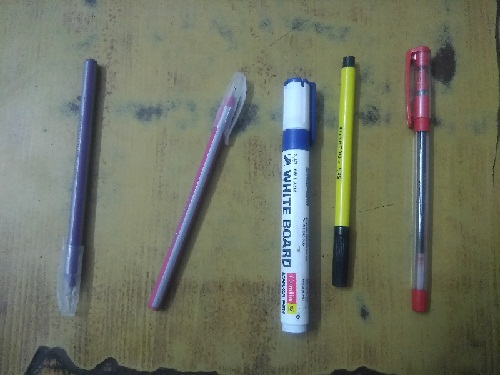pen: (146, 69, 251, 311), (54, 53, 104, 320), (396, 39, 442, 319), (276, 74, 318, 337), (331, 52, 357, 290)
